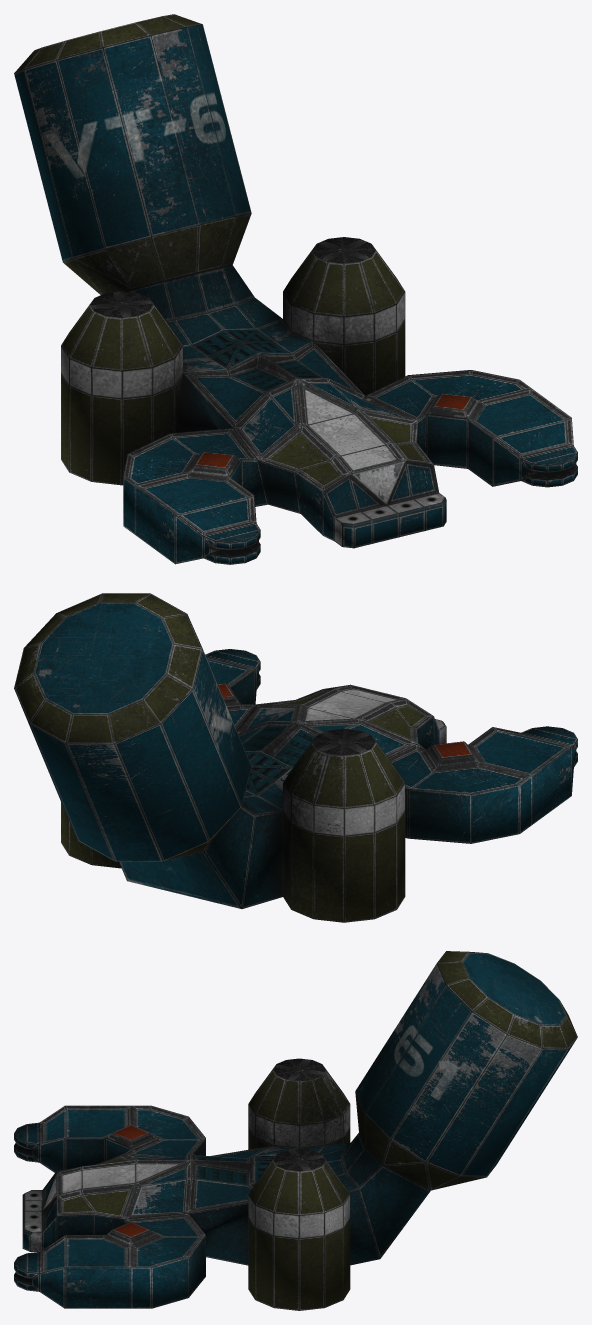
Rendered from Boss2_Body.fbx.
The picture shows the model from 3 angles, top to bottom: view 1: azimuth 30°, elevation 25°; view 2: azimuth 150°, elevation 25°; view 3: azimuth 270°, elevation 25°; orthographic projection. The views are drawn at different scales.
Parts seen in each view (by area): view 1: Mesh; view 2: Mesh; view 3: Mesh.
Boxes of the visible parts, x1,y1,x2,y2 form: Mesh: (14, 14, 577, 564); Mesh: (14, 593, 577, 922); Mesh: (14, 951, 577, 1310).
Bounding box in the file's own units: 19.94 × 16.27 × 29.43.
Materials: 1 (1 with a texture image).
